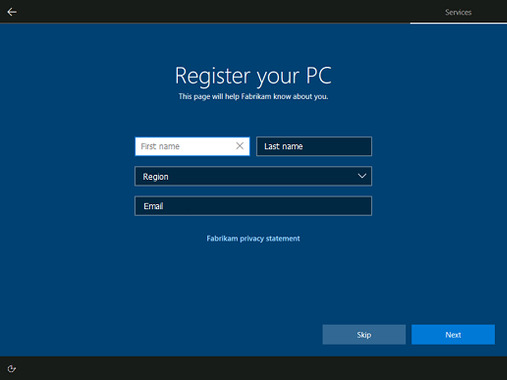button: (409, 323, 496, 346), (321, 323, 408, 345)
field: (132, 165, 374, 187), (133, 195, 374, 217), (256, 136, 373, 158), (133, 136, 251, 157)
